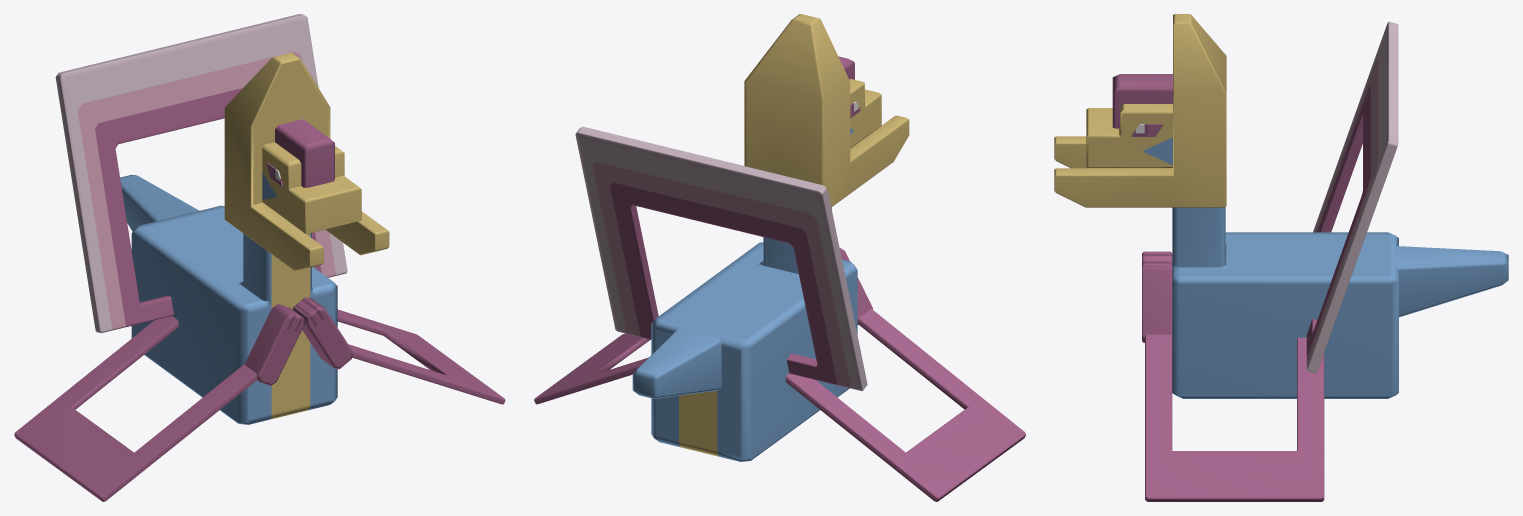
The picture shows the model from 3 angles, left to right: view 1: azimuth 30°, elevation 25°; view 2: azimuth 150°, elevation 25°; view 3: azimuth 270°, elevation 25°; orthographic projection.
Parts seen in each view (by area): view 1: model; view 2: model; view 3: model.
Part boxes in pixels (bbox=[...]): model: bbox=[14, 14, 505, 501]; model: bbox=[534, 14, 1025, 501]; model: bbox=[1054, 14, 1508, 501].
Bounding box in the file's own units: 4.32 × 3.91 × 4.18.
